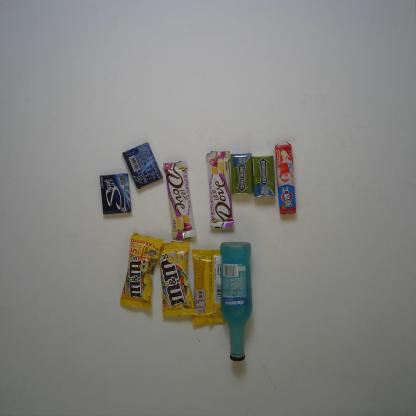Alcohol: (219, 238, 259, 363)
Candy: (274, 139, 298, 218)
Chocolate: (118, 230, 164, 314), (187, 247, 229, 328), (160, 234, 196, 322), (162, 157, 199, 241), (203, 149, 239, 231)
Gum: (121, 140, 164, 192), (97, 170, 136, 217), (249, 152, 278, 201), (230, 150, 258, 197)
